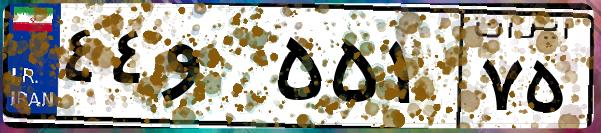1: (385, 28, 445, 110)
4: (57, 26, 110, 100), (110, 28, 158, 98)
5: (270, 28, 330, 110), (330, 28, 385, 110), (525, 38, 570, 115)
7: (475, 38, 525, 113)
و: (158, 20, 270, 120)
